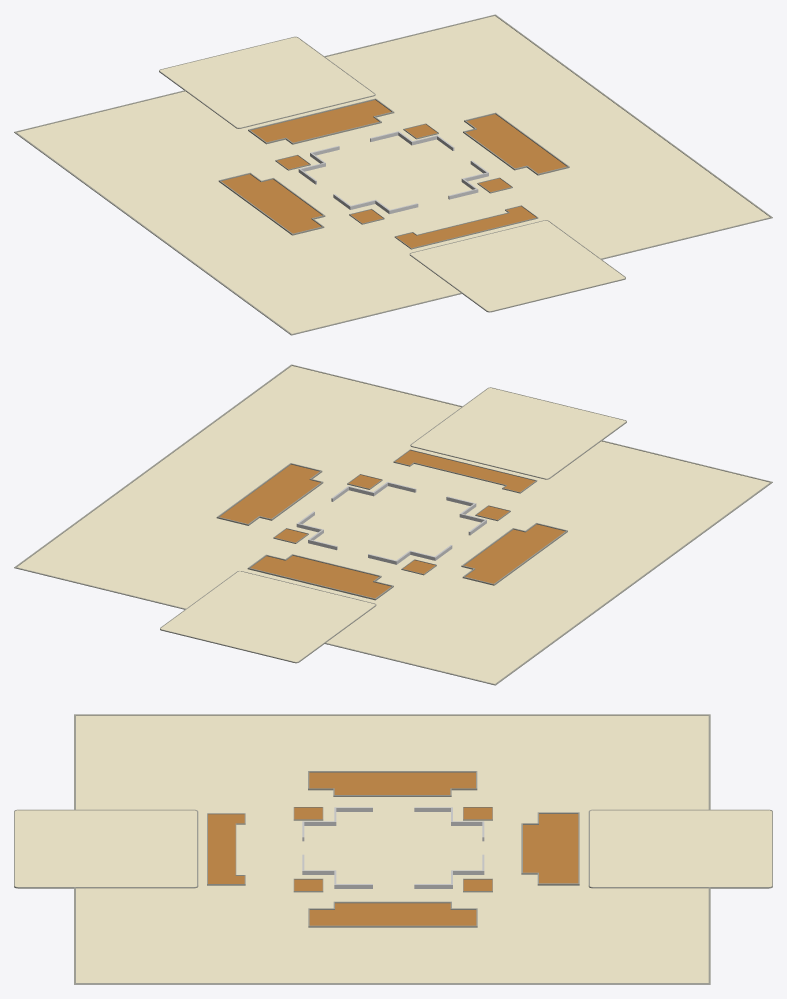
Rendered from Terrain.fbx.
3 renders of one model, top to bottom at view 1: azimuth 30°, elevation 25°; view 2: azimuth 150°, elevation 25°; view 3: azimuth 270°, elevation 25°, orthographic. The views are drawn at different scales.
Visible parts, largest first — view 1: Plane.973, Plane.015, Plane.798, Plane.013, Plane.006, Plane.012, Plane.014, Plane.1050; view 2: Plane.973, Plane.798, Plane.015, Plane.013, Plane.006, Plane.012, Plane.014, Plane.1050; view 3: Plane.973, Plane.798, Plane.015, Plane.012, Plane.006, Plane.013, Plane.014, Plane.1050.
Part boxes in pixels (bbox=[...]): Plane.973: bbox=[14, 14, 772, 335]; Plane.015: bbox=[409, 220, 625, 312]; Plane.798: bbox=[159, 36, 375, 128]; Plane.013: bbox=[248, 98, 394, 144]; Plane.006: bbox=[218, 172, 325, 235]; Plane.012: bbox=[463, 112, 569, 175]; Plane.014: bbox=[394, 205, 538, 249]; Plane.1050: bbox=[298, 131, 488, 214]; Plane.973: bbox=[14, 364, 772, 685]; Plane.798: bbox=[160, 571, 376, 663]; Plane.015: bbox=[410, 387, 626, 479]; Plane.013: bbox=[247, 554, 393, 600]; Plane.006: bbox=[461, 523, 567, 585]; Plane.012: bbox=[216, 463, 323, 525]; Plane.014: bbox=[393, 449, 537, 493]; Plane.1050: bbox=[296, 482, 486, 564]; Plane.973: bbox=[74, 714, 710, 984]; Plane.798: bbox=[588, 809, 772, 888]; Plane.015: bbox=[14, 809, 198, 888]; Plane.012: bbox=[308, 901, 477, 927]; Plane.006: bbox=[308, 771, 477, 796]; Plane.013: bbox=[521, 812, 579, 885]; Plane.014: bbox=[207, 813, 245, 885]; Plane.1050: bbox=[302, 807, 484, 888].
Size of what is drawn, in the model's own units: 47662 by 353 by 56708.
3 materials, 1 textured.
